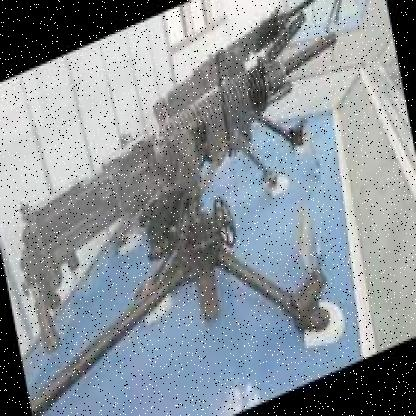rifle: (5, 27, 363, 284)
